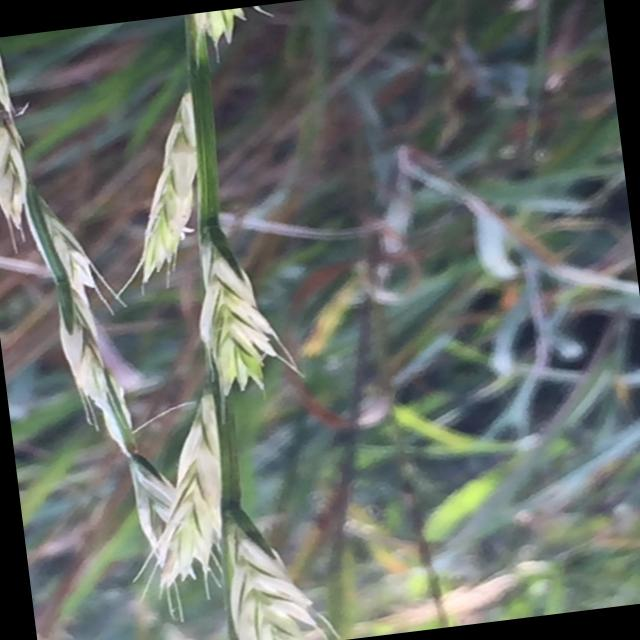Lolium: (0, 4, 354, 640)
